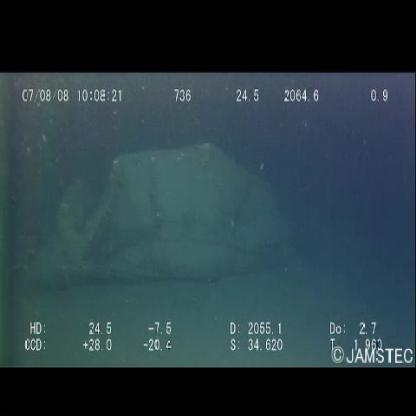Rác: (25, 139, 305, 296)
